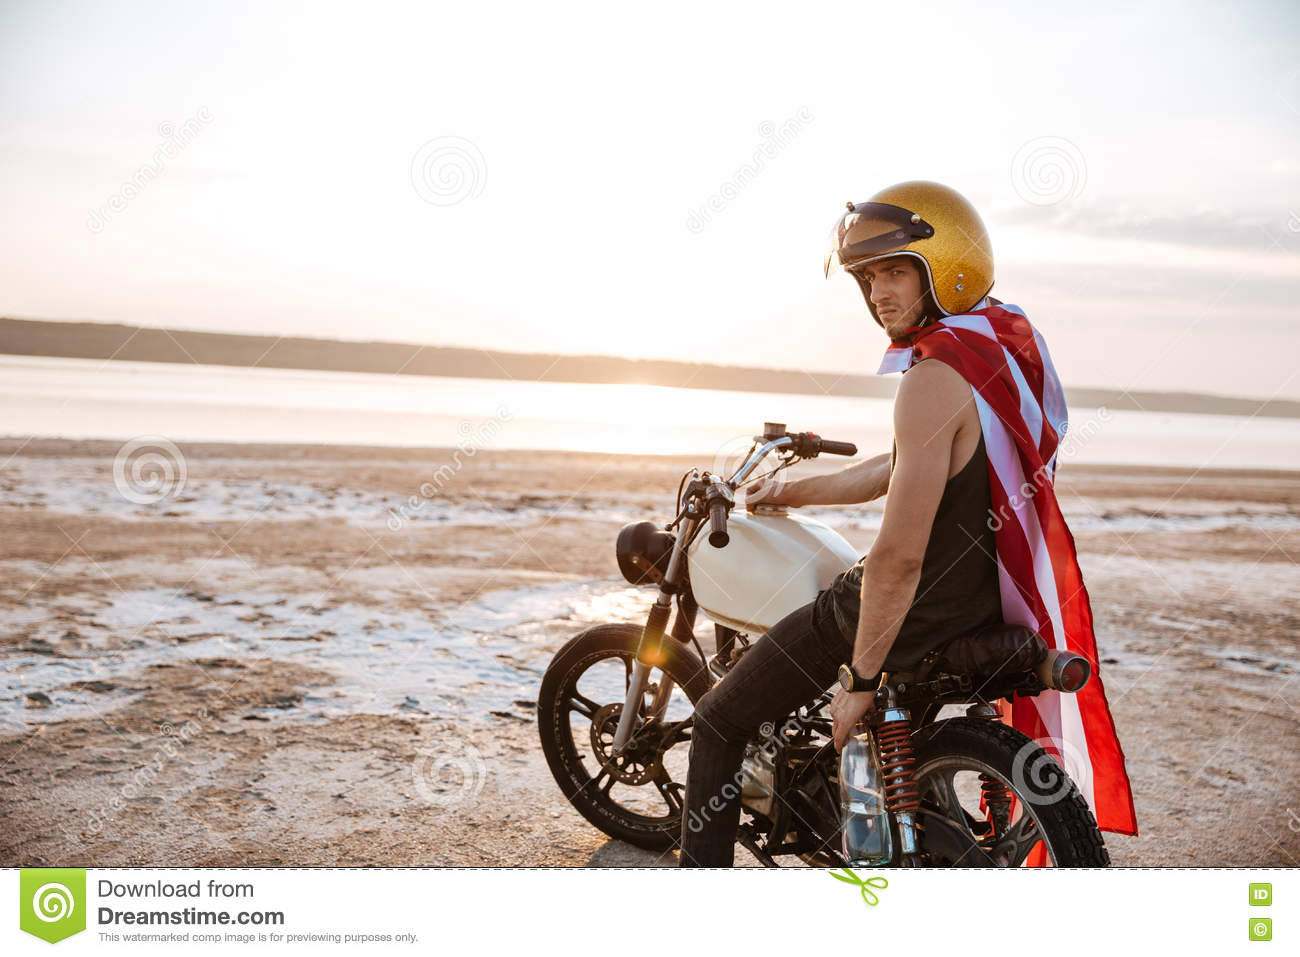helmet: (830, 180, 1004, 323)
